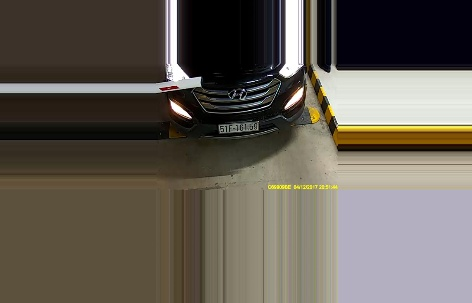plate: (215, 119, 259, 134)
